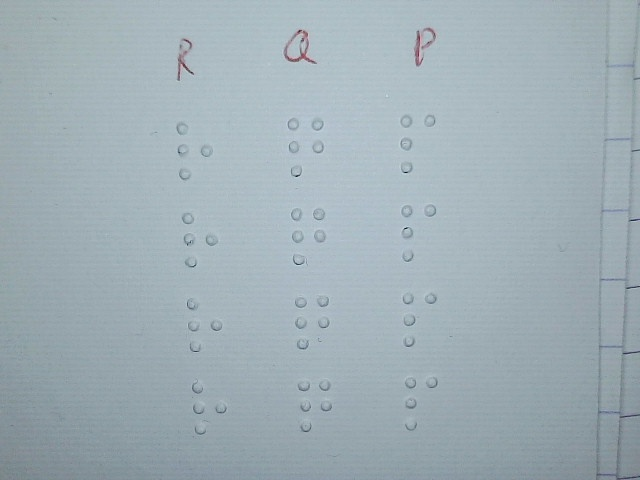P: (399, 112, 438, 174), (400, 201, 438, 262), (402, 289, 437, 347), (403, 373, 438, 431)
Q: (287, 115, 326, 177), (291, 205, 327, 265), (294, 292, 330, 349), (297, 377, 333, 432)
R: (175, 120, 214, 182), (181, 210, 219, 268), (186, 294, 224, 352), (191, 379, 227, 435)
